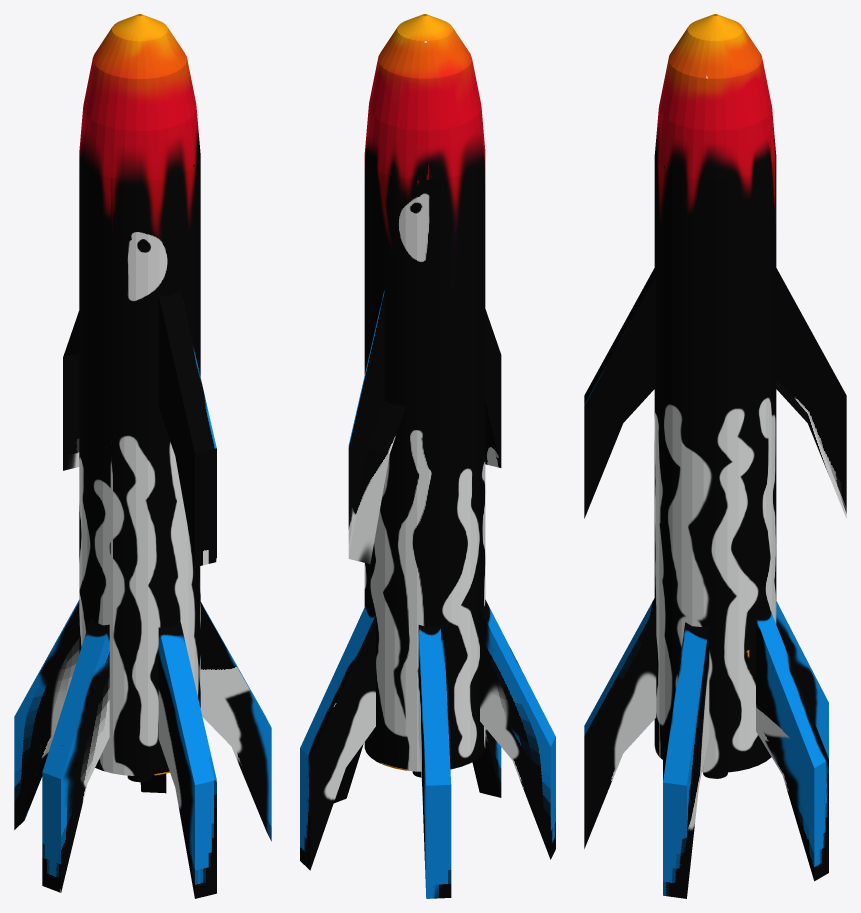
Rendered from missile.glb.
The picture shows the model from 3 angles, left to right: view 1: azimuth 30°, elevation 25°; view 2: azimuth 150°, elevation 25°; view 3: azimuth 270°, elevation 25°; orthographic projection.
Parts seen in each view (by area): view 1: Circle, Circle.001; view 2: Circle, Circle.001; view 3: Circle, Circle.001.
Boxes of the visible parts, <box> form: Circle: <box>79,14,200,782</box>; Circle.001: <box>14,291,271,898</box>; Circle: <box>364,14,485,777</box>; Circle.001: <box>300,289,555,898</box>; Circle: <box>654,14,776,778</box>; Circle.001: <box>584,268,846,898</box>.
Size of the model in its own units: 3.12 by 11.09 by 3.18.
Materials: 2 (2 with a texture image).
